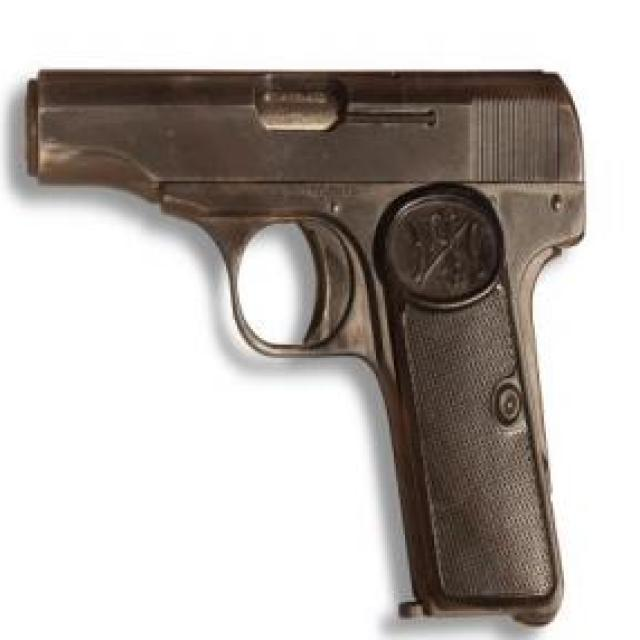pistol: (47, 65, 593, 640)
